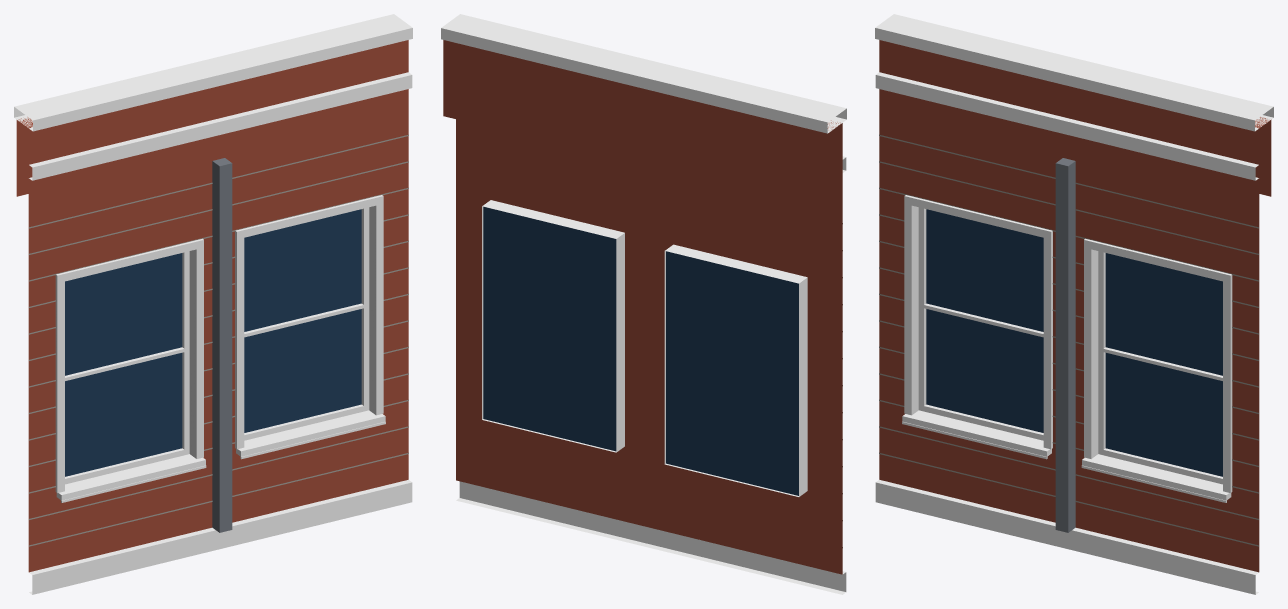
The model's file is top-w1_close.fbx.
3 views of the same model, side by side, from view 1: azimuth 30°, elevation 25°; view 2: azimuth 150°, elevation 25°; view 3: azimuth 330°, elevation 25° (orthographic).
Visible parts, largest first — view 1: a2009/600/top-w1_close; view 2: a2009/600/top-w1_close; view 3: a2009/600/top-w1_close.
Boxes of the visible parts, <box> form: a2009/600/top-w1_close: <box>14,14,412,594</box>; a2009/600/top-w1_close: <box>441,14,846,594</box>; a2009/600/top-w1_close: <box>875,14,1273,594</box>.
Size of the model in its own units: 3.6 by 4.3 by 0.36.
